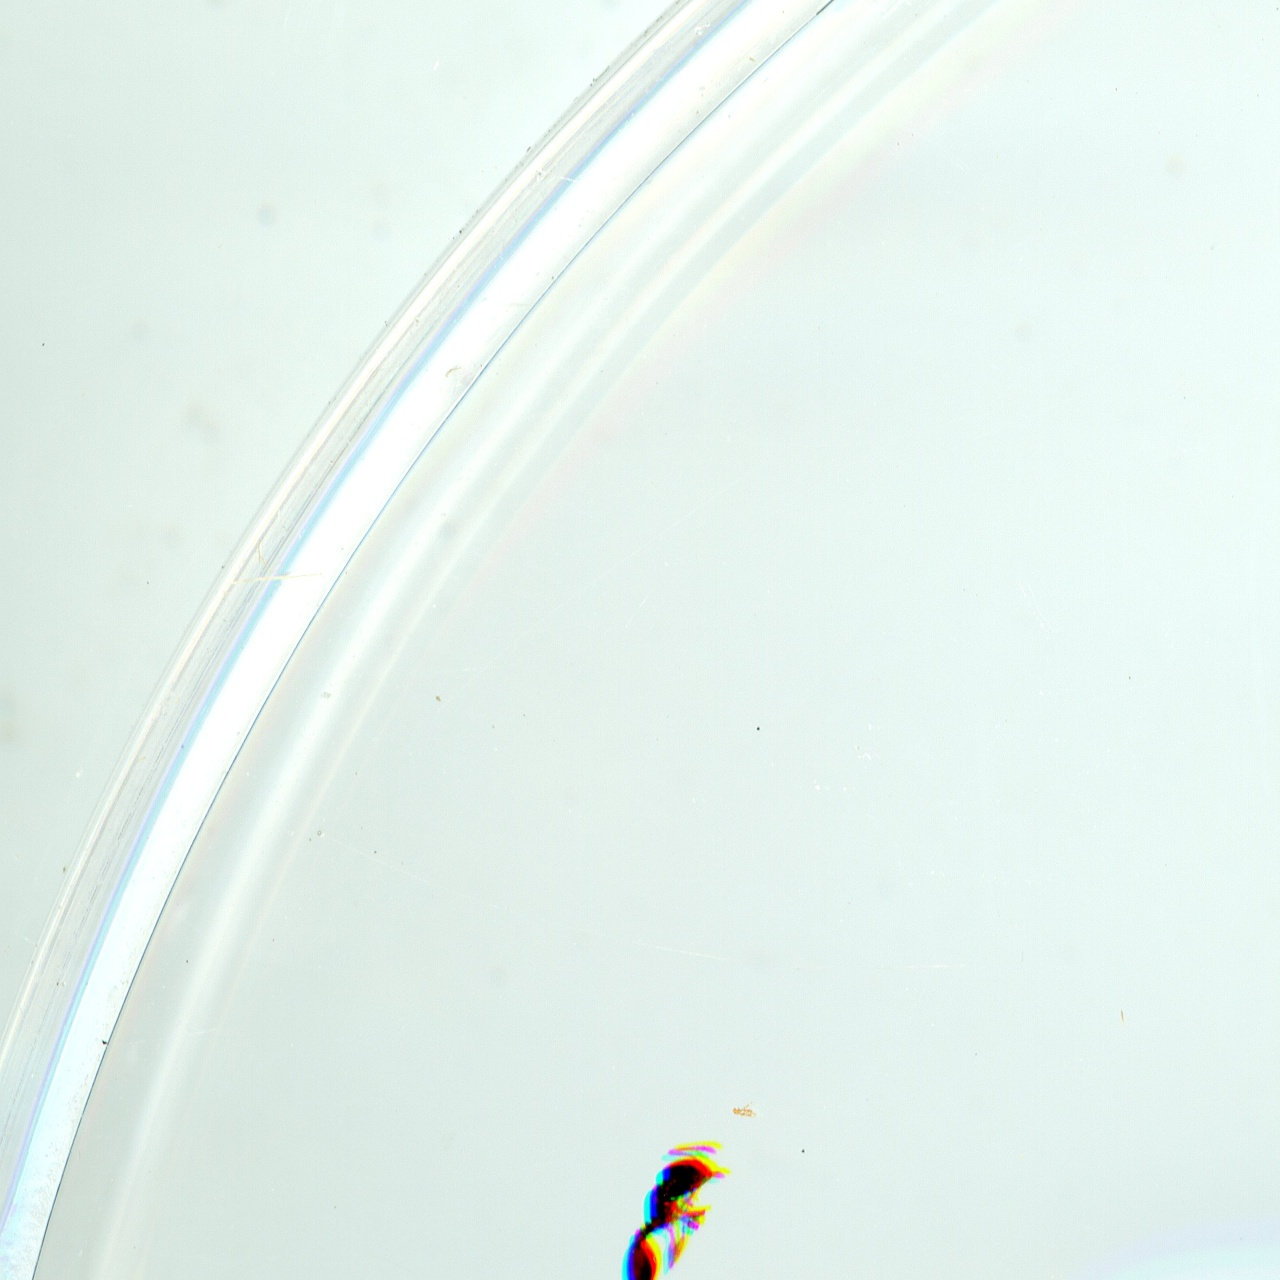arthropod: (614, 1143, 719, 1280)
